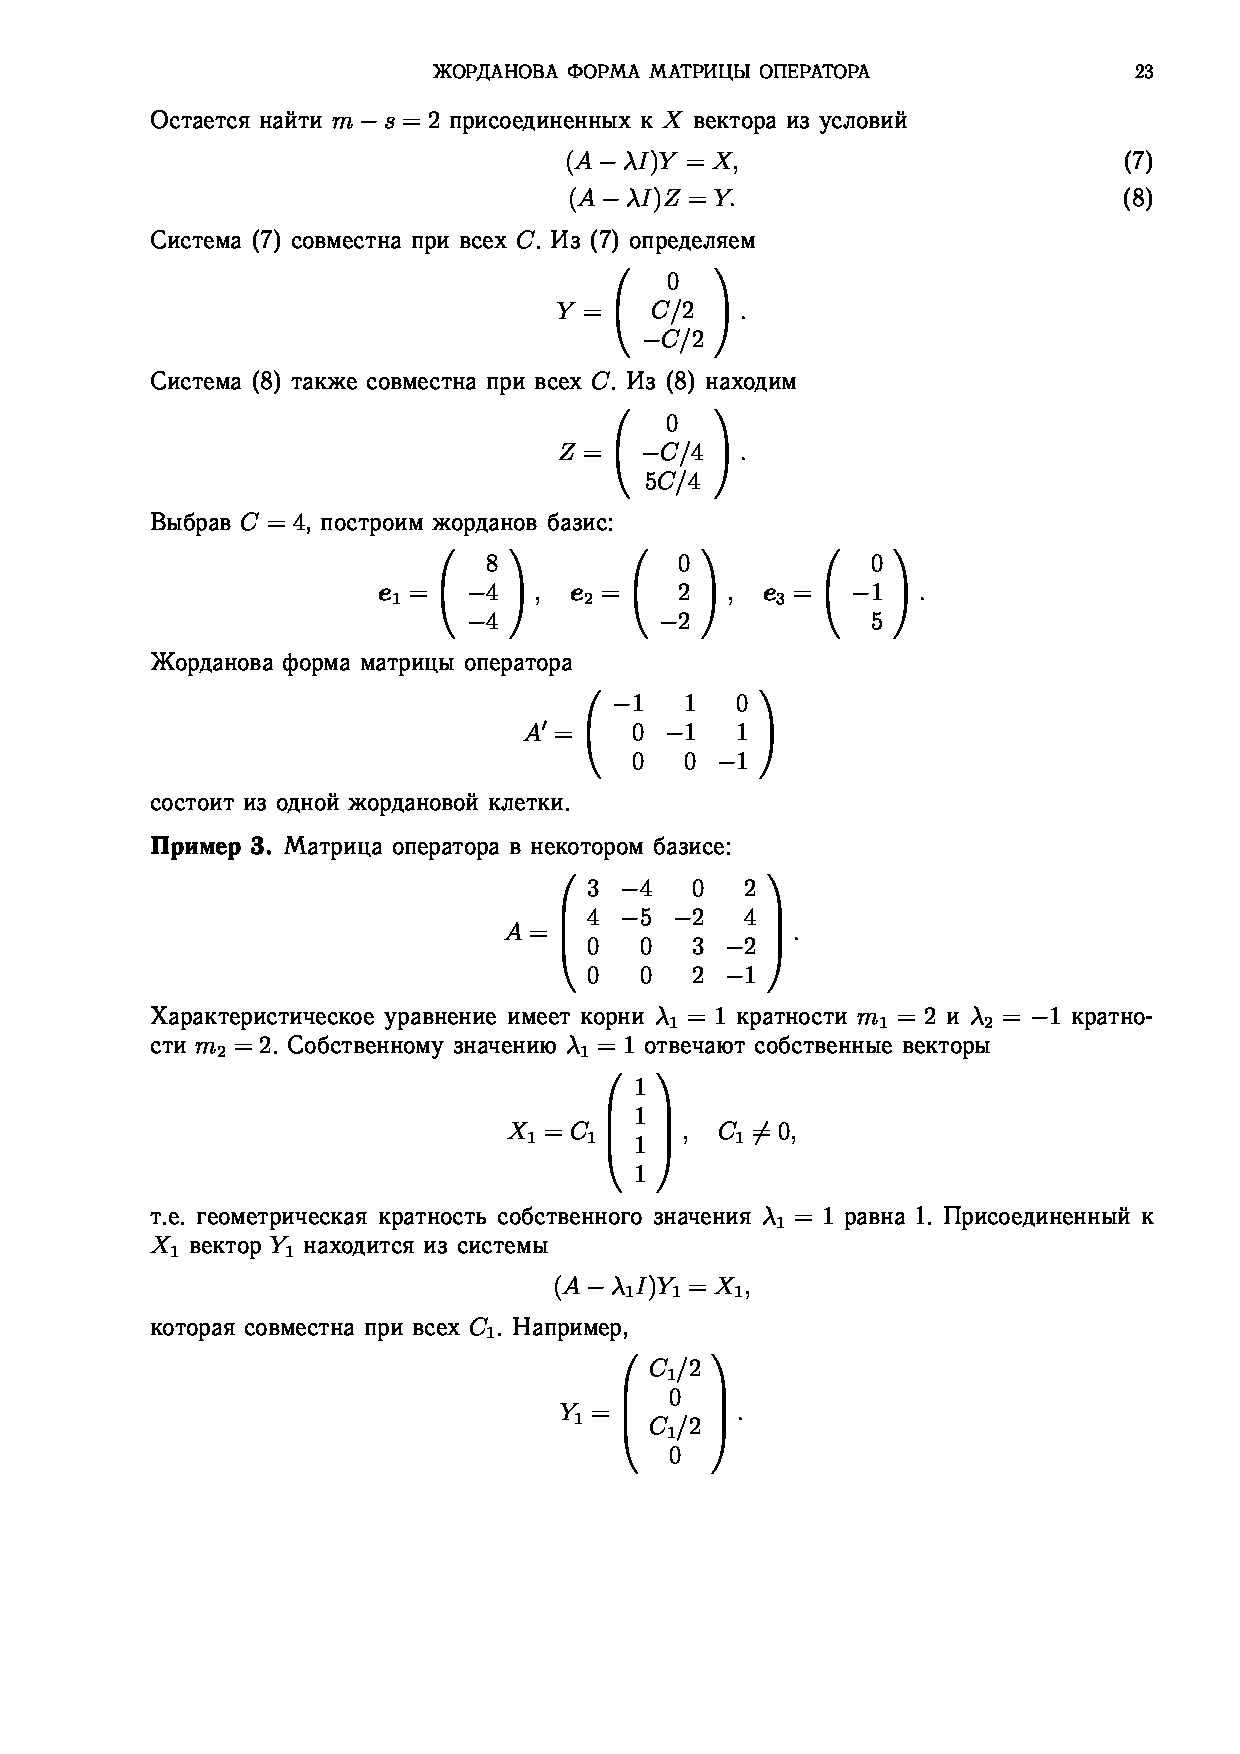pMatrix: (560, 874, 786, 1000), (588, 686, 776, 784), (621, 1351, 727, 1476), (617, 264, 730, 369), (615, 407, 730, 501), (824, 546, 911, 650), (629, 544, 717, 646), (608, 1075, 679, 1196), (440, 548, 522, 641)
